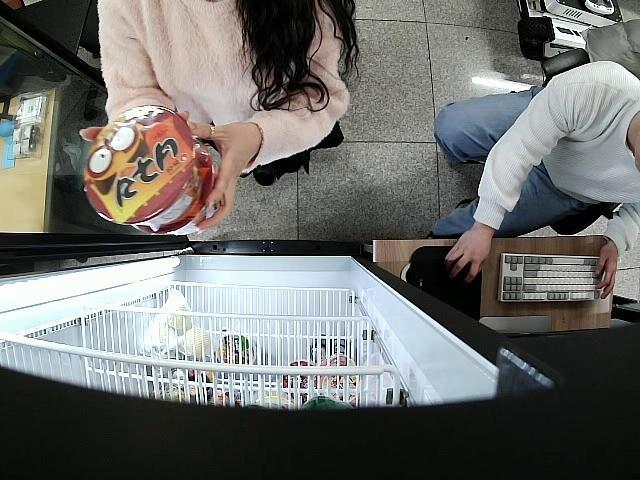05_nuguri_L: (82, 104, 201, 226)
